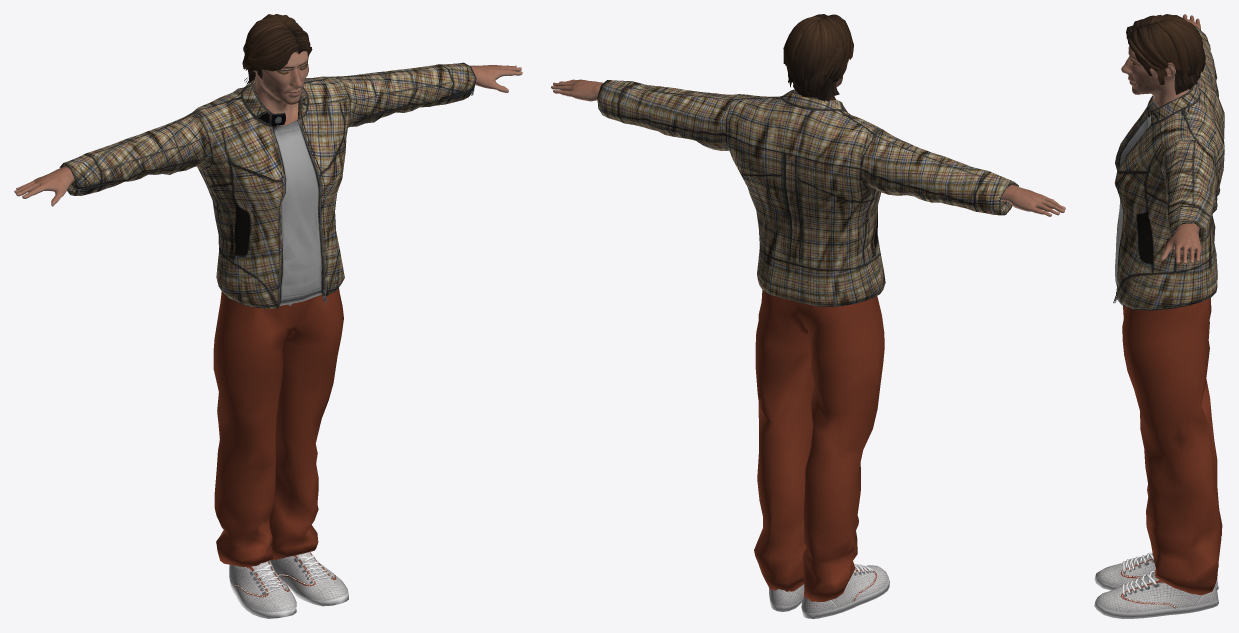
File: Mariano.obj
3 views of the same model, side by side, from view 1: azimuth 30°, elevation 25°; view 2: azimuth 150°, elevation 25°; view 3: azimuth 270°, elevation 25° (orthographic).
Parts seen in each view (by area): view 1: Tops, Bottoms, Shoes, Body, Hair; view 2: Tops, Bottoms, Hair, Shoes, Body; view 3: Bottoms, Tops, Shoes, Hair, Body.
Part boxes in pixels (left/top/right/bottom): Tops: left=59, top=62, right=476, bottom=308; Bottoms: left=213, top=288, right=343, bottom=566; Shoes: left=229, top=552, right=348, bottom=618; Body: left=14, top=51, right=522, bottom=568; Hair: left=242, top=14, right=312, bottom=86; Tops: left=597, top=80, right=1018, bottom=306; Bottoms: left=754, top=290, right=884, bottom=601; Hair: left=783, top=14, right=853, bottom=101; Shoes: left=768, top=564, right=889, bottom=618; Body: left=551, top=58, right=1065, bottom=216; Bottoms: left=1122, top=298, right=1222, bottom=595; Tops: left=1113, top=26, right=1224, bottom=310; Shoes: left=1094, top=552, right=1218, bottom=618; Hair: left=1126, top=14, right=1205, bottom=94; Body: left=1121, top=14, right=1201, bottom=264.
Bounding box in the file's own units: 181 × 195 × 39.83.
5 materials, 5 textured.
